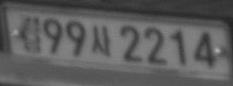1: (168, 28, 189, 65)
2: (144, 26, 168, 65), (119, 24, 143, 62)
4: (193, 30, 217, 67)
9: (65, 19, 86, 57), (42, 16, 63, 53)
경남_V: (17, 15, 42, 54)
사: (89, 24, 112, 56)
